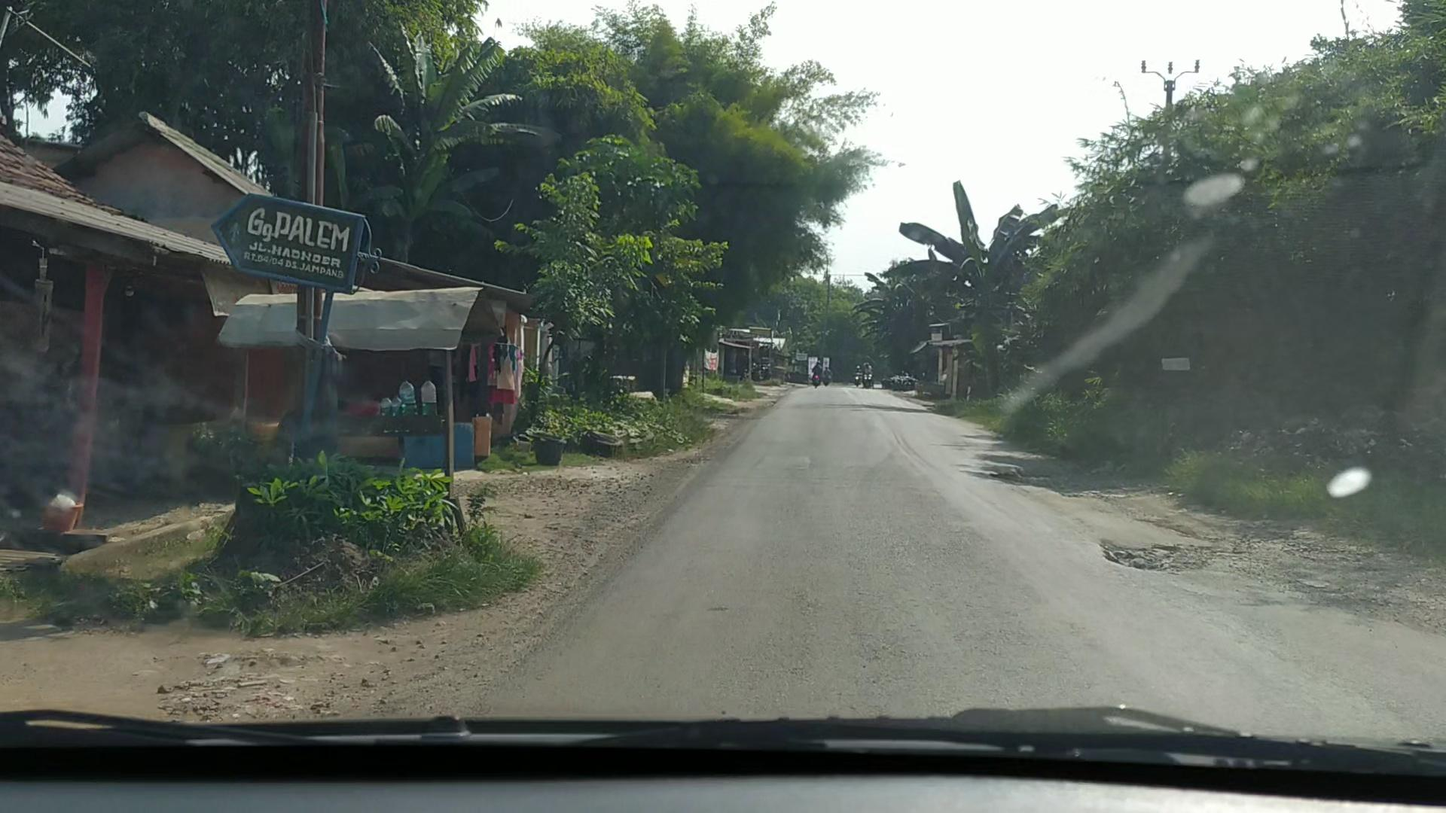pothole: (1101, 540, 1215, 575), (989, 470, 1080, 495)
